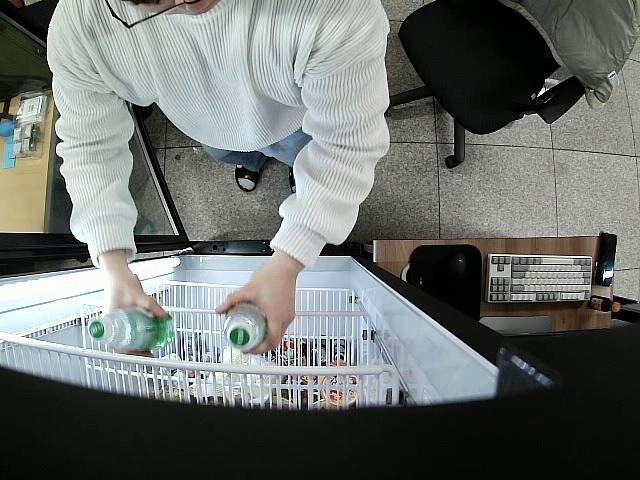00_hand: (215, 266, 295, 352), (101, 274, 173, 361)
18_trevi: (88, 304, 175, 353), (222, 305, 268, 354)
